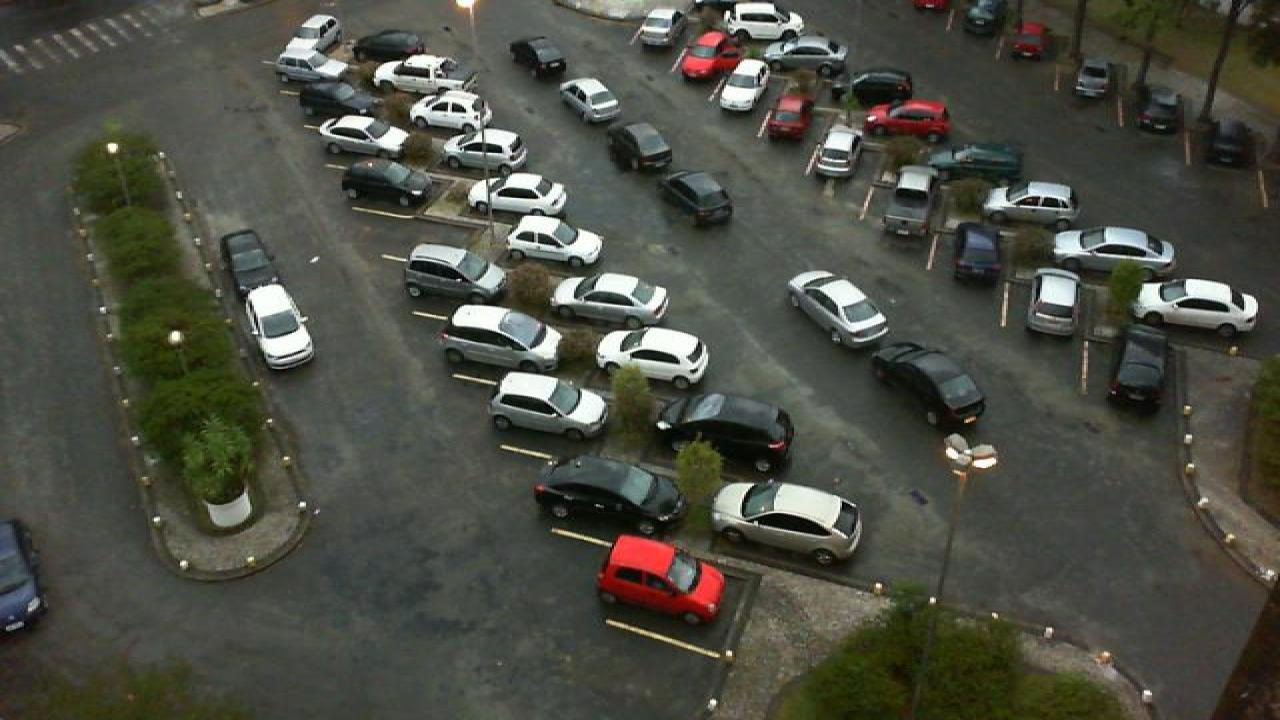Car: (708, 479, 864, 564), (532, 454, 686, 536), (594, 534, 726, 626), (654, 390, 796, 470), (870, 341, 988, 436), (436, 304, 562, 374), (486, 370, 608, 442), (786, 270, 890, 349), (1130, 276, 1262, 338), (592, 326, 712, 390), (548, 270, 670, 331), (400, 243, 506, 307), (240, 284, 316, 371), (1050, 226, 1180, 276), (1106, 324, 1172, 411), (506, 213, 608, 269), (466, 171, 572, 223), (660, 168, 738, 231), (1024, 266, 1090, 338), (340, 156, 432, 207), (980, 180, 1080, 225), (862, 98, 956, 144), (314, 114, 412, 158), (882, 165, 940, 238), (370, 53, 472, 93), (926, 143, 1028, 181), (446, 126, 530, 172), (708, 1, 804, 41), (408, 87, 496, 130), (604, 122, 676, 173), (676, 30, 748, 81), (218, 228, 276, 290), (760, 36, 850, 75), (950, 220, 1004, 284), (296, 80, 380, 119), (558, 76, 624, 125), (714, 57, 772, 112), (808, 125, 864, 181), (276, 47, 358, 84), (844, 66, 914, 108), (1198, 117, 1252, 170), (508, 35, 570, 79), (762, 92, 814, 142), (352, 29, 424, 61), (1136, 87, 1184, 135), (634, 8, 684, 49), (292, 13, 340, 53), (1072, 56, 1112, 100), (1010, 22, 1050, 60), (960, 0, 1000, 36)
